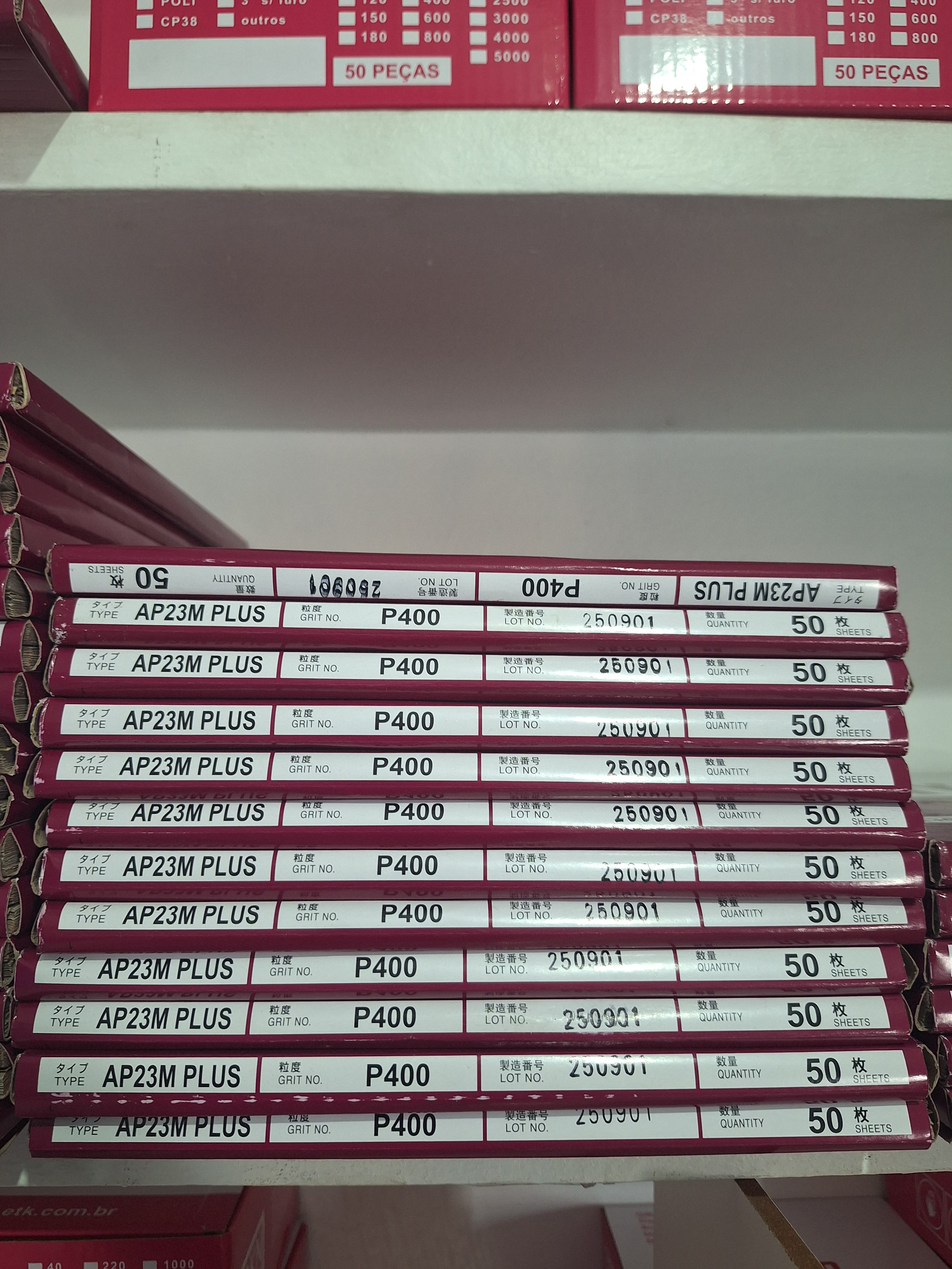grao: (260, 1053, 478, 1094), (479, 568, 678, 606), (268, 1111, 490, 1145), (251, 1000, 465, 1035), (254, 950, 462, 984), (274, 703, 486, 736), (270, 751, 486, 782), (276, 848, 489, 879), (279, 601, 482, 633), (283, 797, 492, 828), (281, 649, 483, 681), (277, 897, 491, 927)
objects: (15, 527, 945, 1202)
